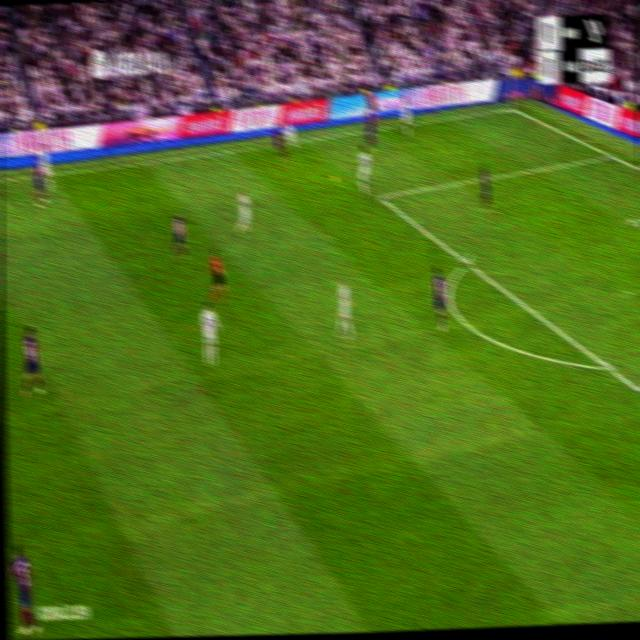bigarea_top_inner: (374, 187, 386, 205)
bigarea_top_outter: (604, 146, 615, 162)
bottom_arc_area_intersection: (599, 352, 614, 378)
corner: (505, 100, 518, 112)
smallarea_top_inner: (627, 211, 638, 228)
top_arc_area_intersection: (460, 251, 473, 271)
